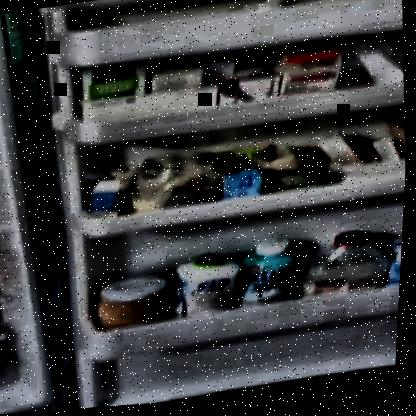milk: (177, 255, 245, 317), (224, 169, 267, 201)
